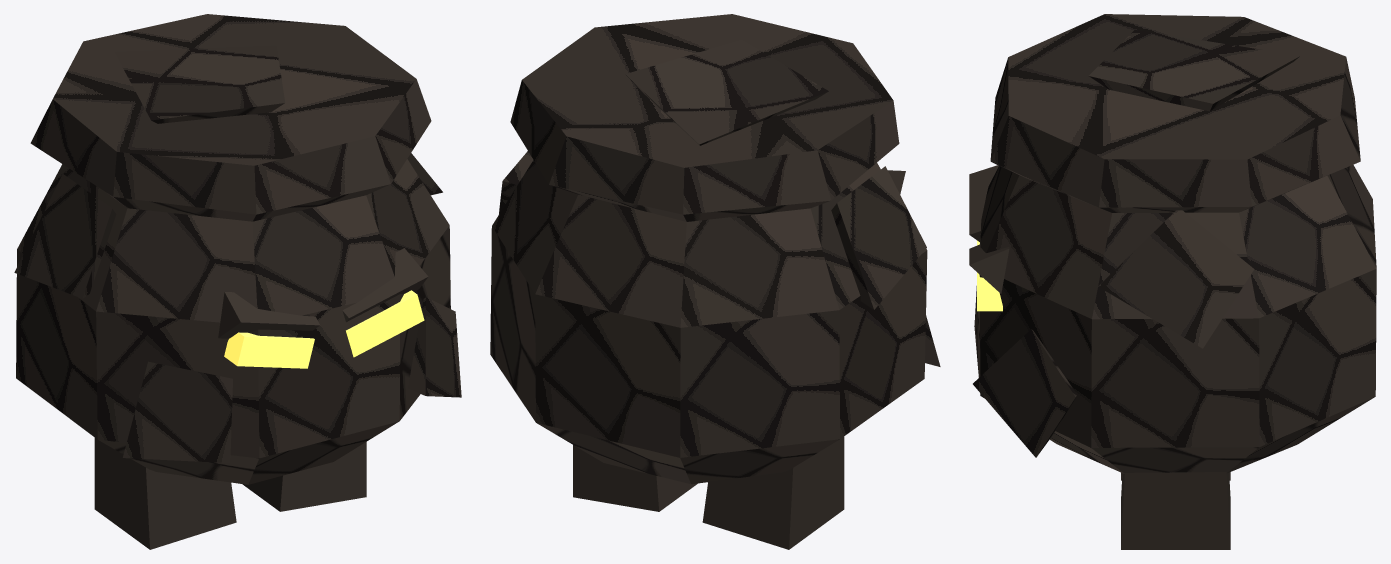
Rendered from enemy_shambler.glb.
3 views of the same model, side by side, from view 1: azimuth 30°, elevation 25°; view 2: azimuth 150°, elevation 25°; view 3: azimuth 270°, elevation 25° (orthographic).
Parts seen in each view (by area): view 1: enemy_shambler; view 2: enemy_shambler; view 3: enemy_shambler.
Boxes of the visible parts, left/top/right/bottom form: enemy_shambler: left=14, top=14, right=461, bottom=549; enemy_shambler: left=490, top=14, right=940, bottom=549; enemy_shambler: left=969, top=14, right=1376, bottom=549.
Size of the model in its own units: 0.8504 by 0.8993 by 0.7781.
1 material, 1 textured.
